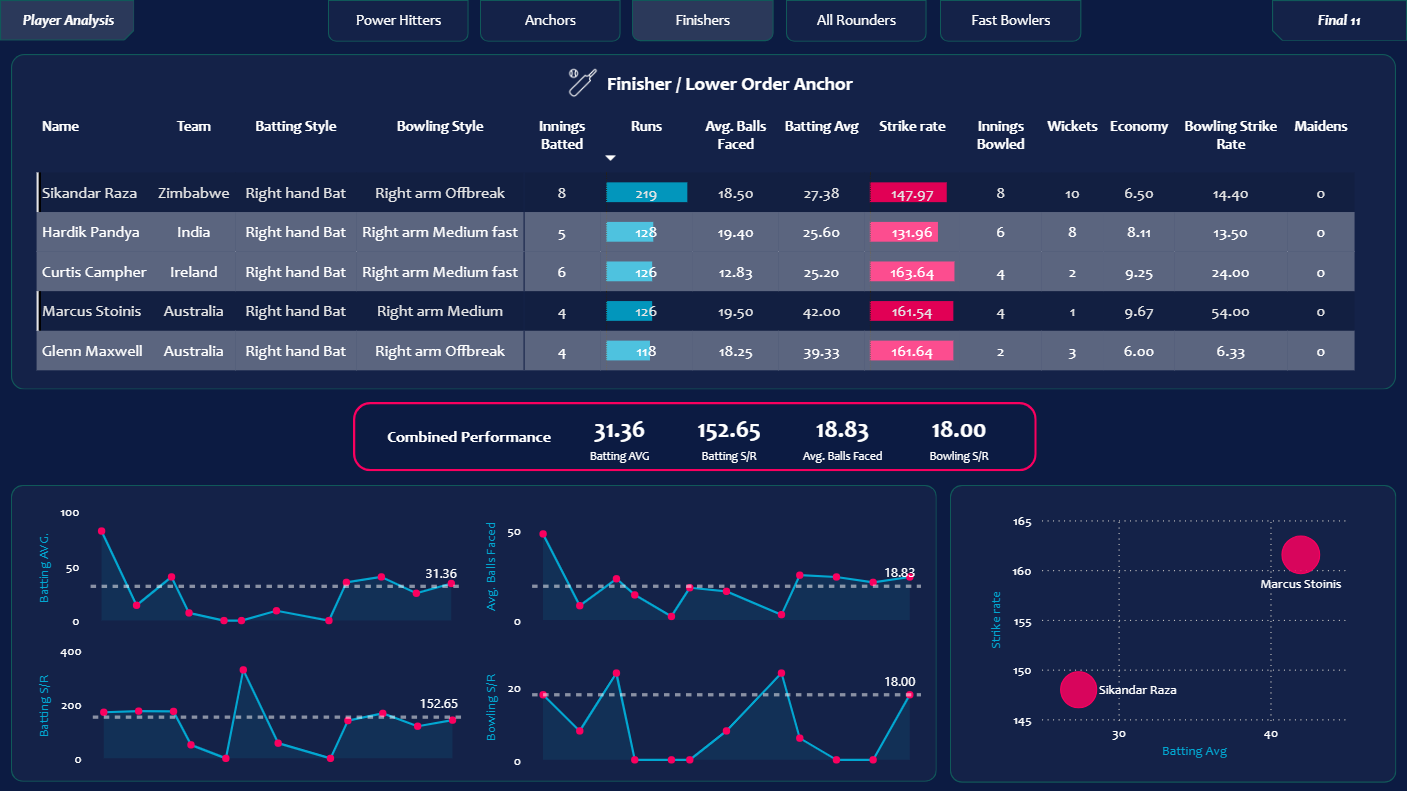

Layout of this report page (visuals, bound fields, positions):
{"tool":"powerbi","page":{"name":"Finisher / Lower Order Anchor","canvas":[1280,720],"ordinal":2},"visuals":[{"type":"tableEx","fields":{"Values":["dim_player.name","dim_player.team","dim_player.Batting Style","dim_player.Bowling Style","Key_Measures.Total Matches","Key_Measures.Total Runs","Key_Measures.Total balls Faced","Key_Measures.Strike Rate","Key_Measures.Bat Avg","Key_Measures.Batting Position","Key_Measures.Boundary %","Key_Measures.Economy"]},"box":[12.6,90.5,1267.4,224.7],"z":0},{"type":"scatterChart","fields":{"Category":["dim_player.name"],"X":["Key_Measures.Bat Avg"],"Series":["dim_player.name"],"Y":["Key_Measures.Strike Rate"]},"box":[42.4,360.6,643.9,357.6],"z":1000},{"type":"card","fields":{"Values":["Key_Measures.Bat Avg"]},"box":[766,384.2,202.3,129.4],"z":2000},{"type":"card","fields":{"Values":["Key_Measures.Strike Rate"]},"box":[1017,384.2,184.8,129.4],"z":3000},{"type":"slicer","fields":{"Values":["dim_match_summary.Stage"]},"box":[1144.8,0,135.2,99.2],"z":4000},{"type":"card","fields":{"Values":["Key_Measures.Bowling Strike Rate"]},"box":[800.1,563.1,168.3,138.1],"z":5000},{"type":"card","fields":{"Values":["Key_Measures.Economy"]},"box":[1000.9,560.9,201.5,139.4],"z":6000}]}

Visuals, with their boxes in screenshot pixels (x1, y1, x2, y2), scaled from the page's 1280x720 canvas onto the 1407x791 screenshot:
tableEx - dim_player.name x dim_player.team: locate(14, 99, 1406, 346)
scatterChart - dim_player.name x Key_Measures.Bat Avg: locate(47, 396, 754, 789)
card - Key_Measures.Bat Avg: locate(842, 422, 1064, 564)
card - Key_Measures.Strike Rate: locate(1118, 422, 1321, 564)
slicer - dim_match_summary.Stage: locate(1258, 0, 1406, 109)
card - Key_Measures.Bowling Strike Rate: locate(879, 619, 1064, 770)
card - Key_Measures.Economy: locate(1100, 616, 1322, 769)
